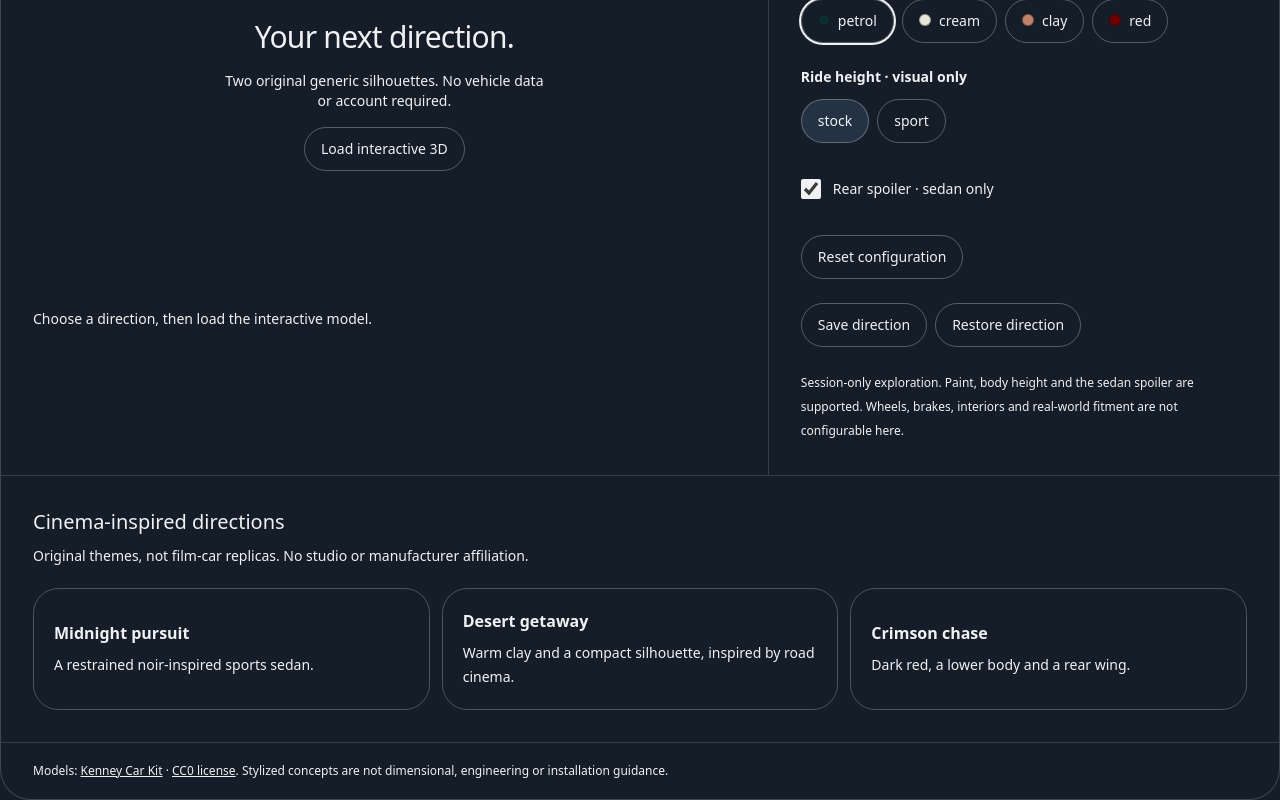
concept studio › limits the spoiler to mapped sedan assets and resets
(page scrolled)
What coordinates should you click on to do the following:
click the button "Desert getaway"
I would click on:
 (640, 649)
Its box is top-left (442, 588), bottom-right (838, 710).
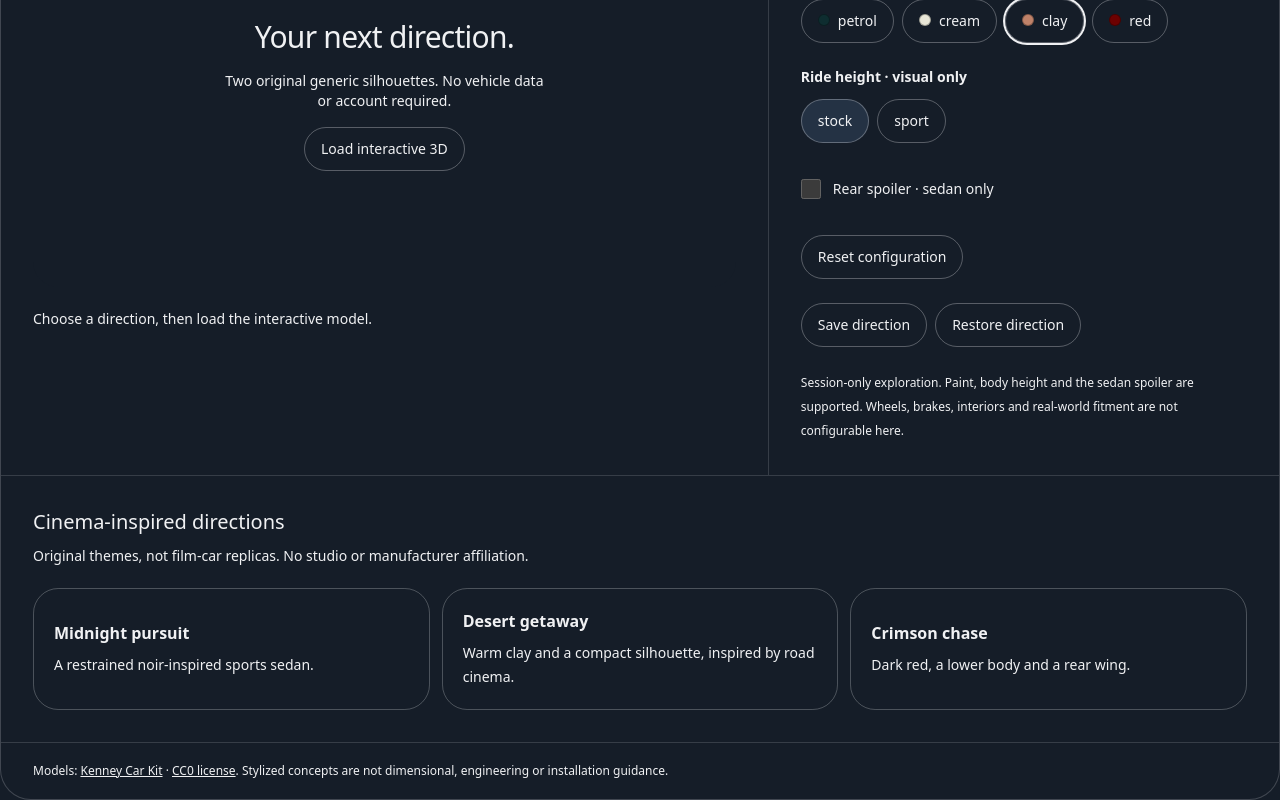
Check: the checkbox is disabled, box top-left (801, 179), bottom-right (821, 199)
What coordinates should you click on to do the following:
click the button "Reset configuration"
I would click on:
 (882, 257)
Its box is top-left (801, 235), bottom-right (963, 279).
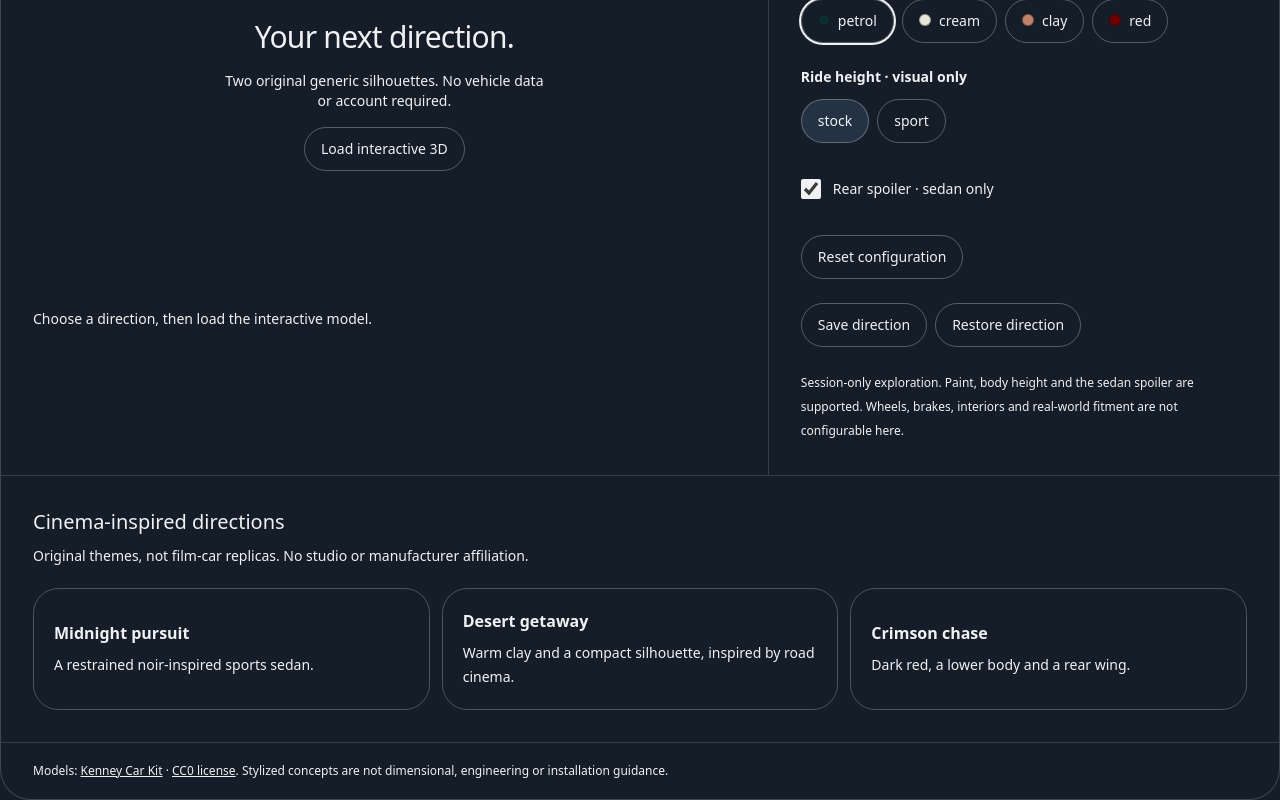
Check: the checkbox is enabled, box top-left (801, 179), bottom-right (821, 199)
Check: the checkbox is checked, box top-left (801, 179), bottom-right (821, 199)
